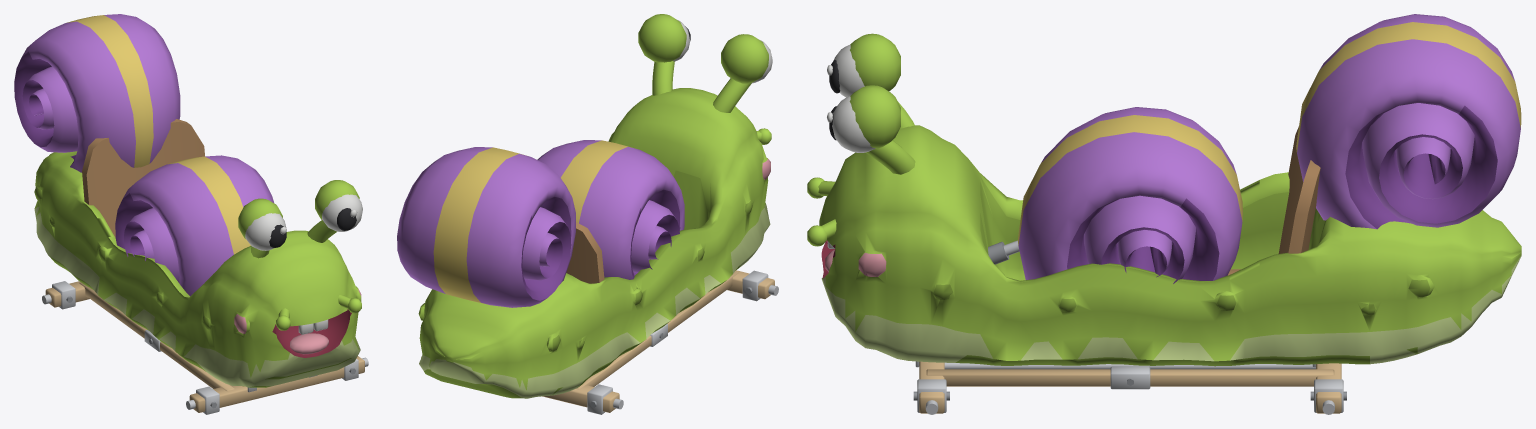
The model's file is snail.glb.
3 renders of one model, left to right at view 1: azimuth 30°, elevation 25°; view 2: azimuth 150°, elevation 25°; view 3: azimuth 270°, elevation 25°, orthographic. The views are drawn at different scales.
Parts seen in each view (by area): view 1: snail, snail_sig, snail_wreck; view 2: snail, snail_sig, snail_wreck; view 3: snail, snail_sig, snail_wreck.
Boxes of the visible parts, <box> form: snail: <box>14,14,368,414</box>; snail_sig: <box>115,155,273,296</box>; snail_wreck: <box>42,281,368,414</box>; snail: <box>397,14,778,414</box>; snail_sig: <box>537,140,684,279</box>; snail_wreck: <box>542,270,777,414</box>; snail: <box>807,14,1521,413</box>; snail_sig: <box>1017,107,1242,283</box>; snail_wreck: <box>825,242,1346,414</box>.
Bounding box in the file's own units: 1 × 1.29 × 2.52.
